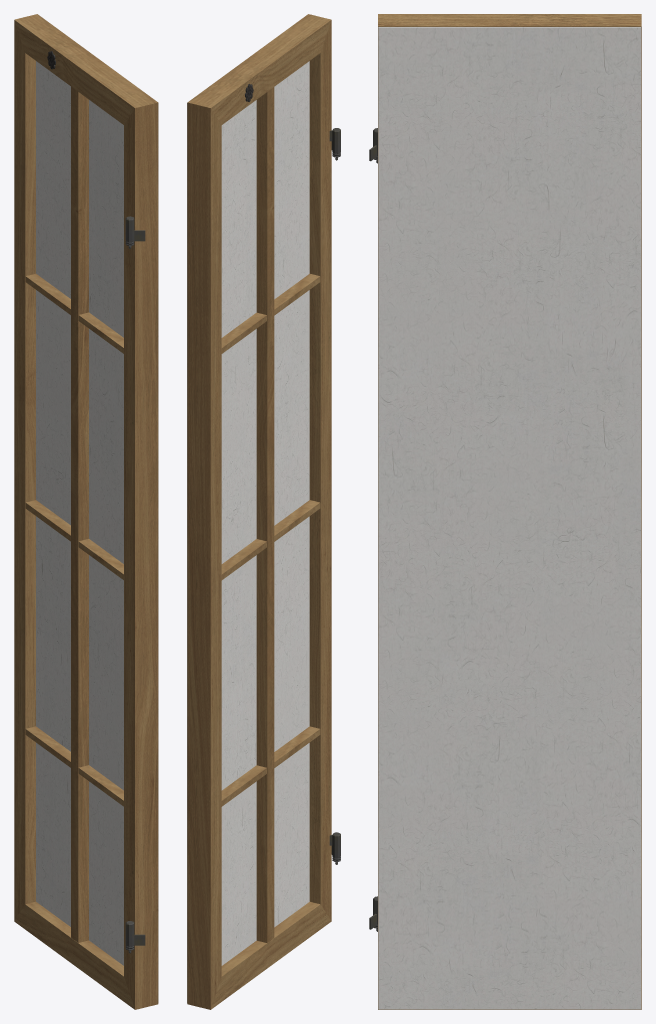
The model's file is SM_Brown_Door02B.fbx.
3 renders of one model, left to right at view 1: azimuth 30°, elevation 25°; view 2: azimuth 150°, elevation 25°; view 3: azimuth 270°, elevation 25°, orthographic. The views are drawn at different scales.
Parts seen in each view (by area): view 1: SM_Brown_Door02B; view 2: SM_Brown_Door02B; view 3: SM_Brown_Door02B.
Boxes of the visible parts, x1,y1,x2,y2 form: SM_Brown_Door02B: [14, 14, 158, 1009]; SM_Brown_Door02B: [187, 14, 340, 1009]; SM_Brown_Door02B: [369, 14, 641, 1009].
Bounding box in the file's own units: 7.59 × 49.89 × 199.
